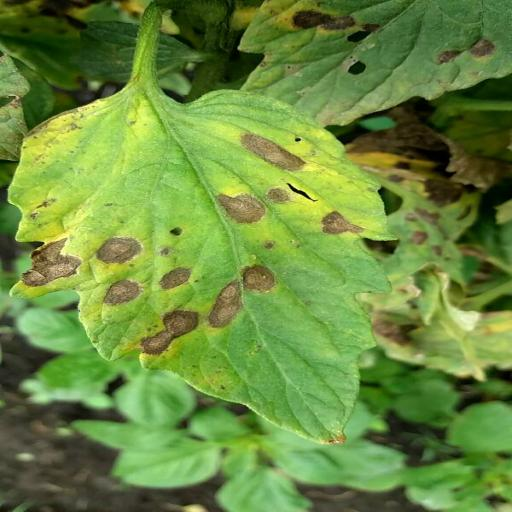disease_tomato: (6, 86, 395, 448)
